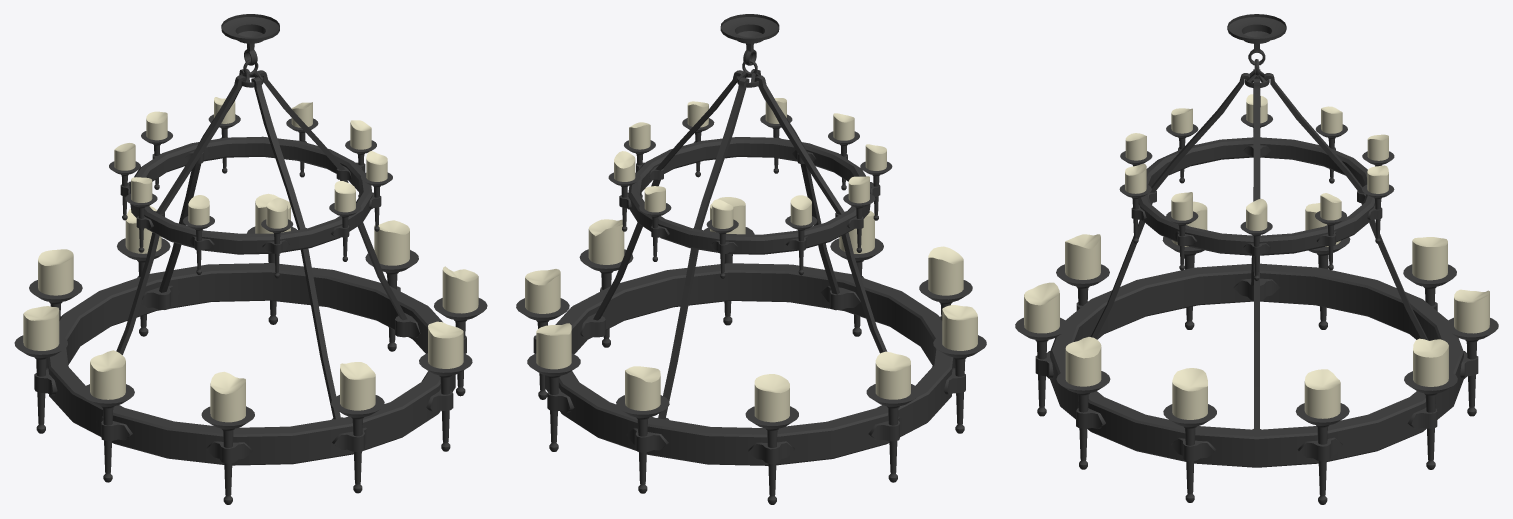
File: Chandelier.fbx
3 views of the same model, side by side, from view 1: azimuth 30°, elevation 25°; view 2: azimuth 150°, elevation 25°; view 3: azimuth 270°, elevation 25° (orthographic).
Parts seen in each view (by area): view 1: Chandelier_V2; view 2: Chandelier_V2; view 3: Chandelier_V2.
Part boxes in pixels (x1=…): Chandelier_V2: x1=14, y1=14, x2=487, y2=504; Chandelier_V2: x1=516, y1=14, x2=986, y2=504; Chandelier_V2: x1=1015, y1=14, x2=1498, y2=504.
Size of the model in its own units: 224 by 209 by 234.
